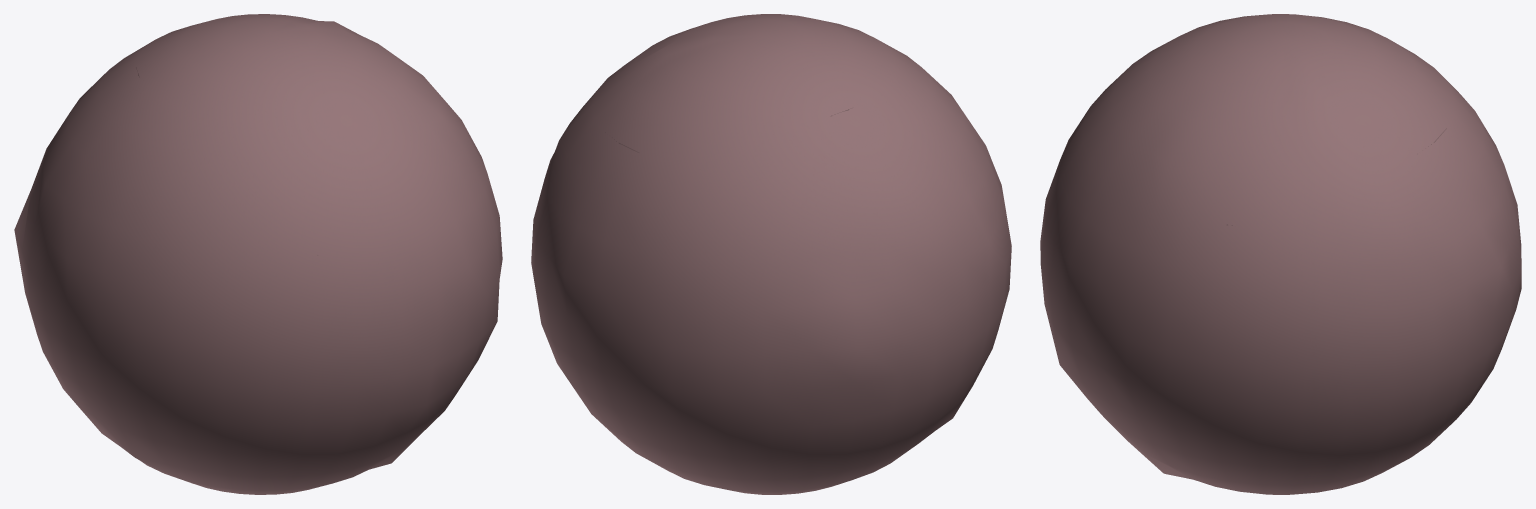
The model's file is MiniBall.fbx.
3 renders of one model, left to right at view 1: azimuth 30°, elevation 25°; view 2: azimuth 150°, elevation 25°; view 3: azimuth 270°, elevation 25°, orthographic.
Parts seen in each view (by area): view 1: Sphere.001; view 2: Sphere.001; view 3: Sphere.001.
Boxes of the visible parts, x1,y1,x2,y2 form: Sphere.001: (14,14,502,494); Sphere.001: (531,14,1011,494); Sphere.001: (1040,14,1521,494).
Bounding box in the file's own units: 6.56 × 6.58 × 6.56.
1 material, 1 textured.
